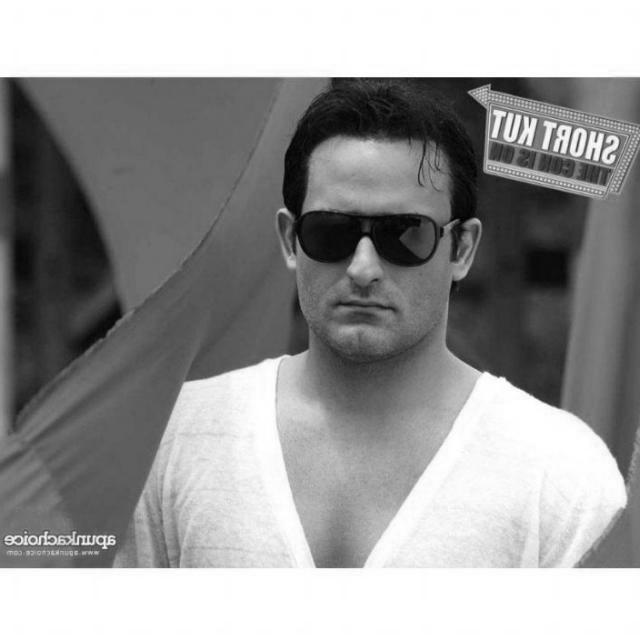real: (274, 132, 476, 366)
